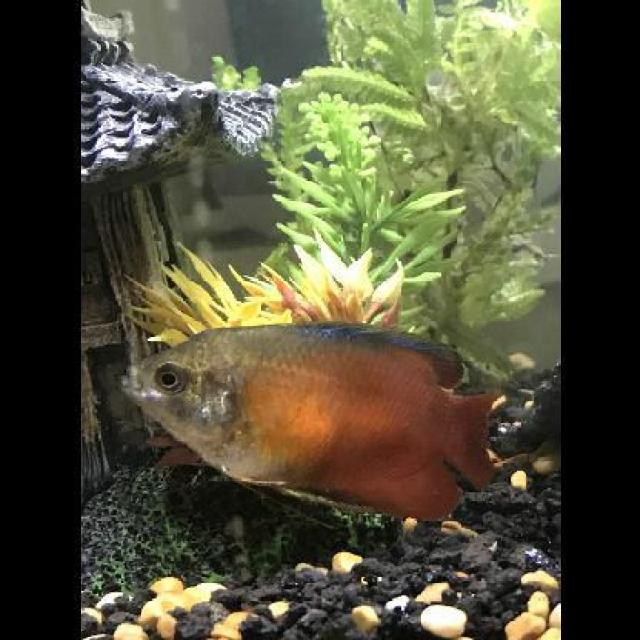Gourami: (120, 311, 505, 523)
